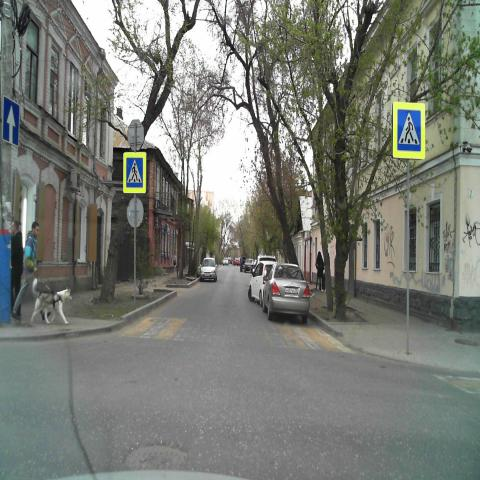5_5: (3, 97, 20, 149)
